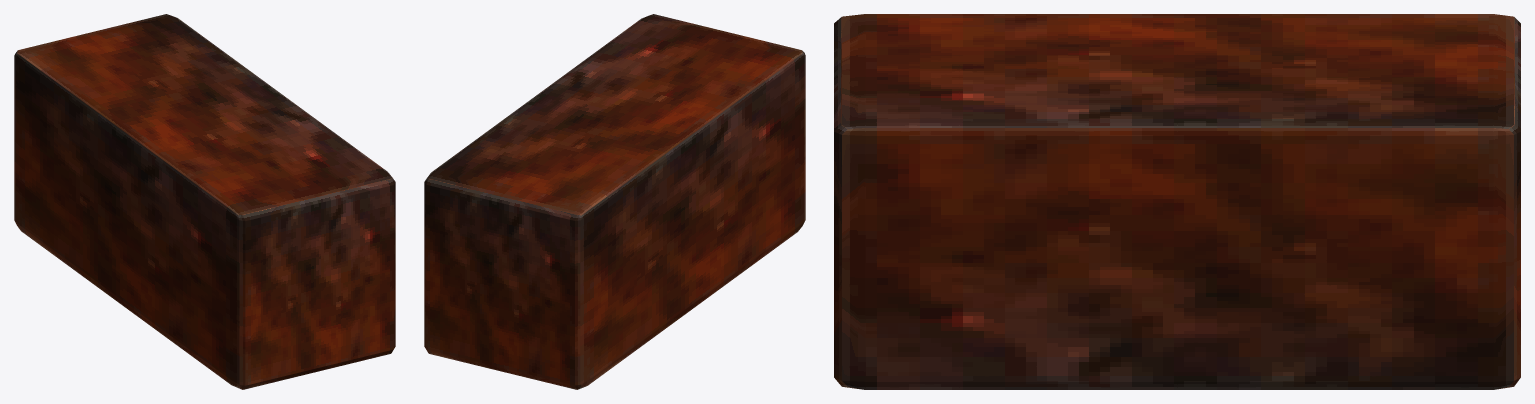
File: BlockSyaosyao.dae
3 renders of one model, left to right at view 1: azimuth 30°, elevation 25°; view 2: azimuth 150°, elevation 25°; view 3: azimuth 270°, elevation 25°, orthographic. The views are drawn at different scales.
Visible parts, largest first — view 1: m0; view 2: m0; view 3: m0.
Part boxes in pixels (left/top/right/bottom): m0: left=14, top=14, right=395, bottom=389; m0: left=424, top=14, right=805, bottom=389; m0: left=834, top=14, right=1520, bottom=389.
Bounding box in the file's own units: 200 × 214 × 499.
1 material, 1 textured.
